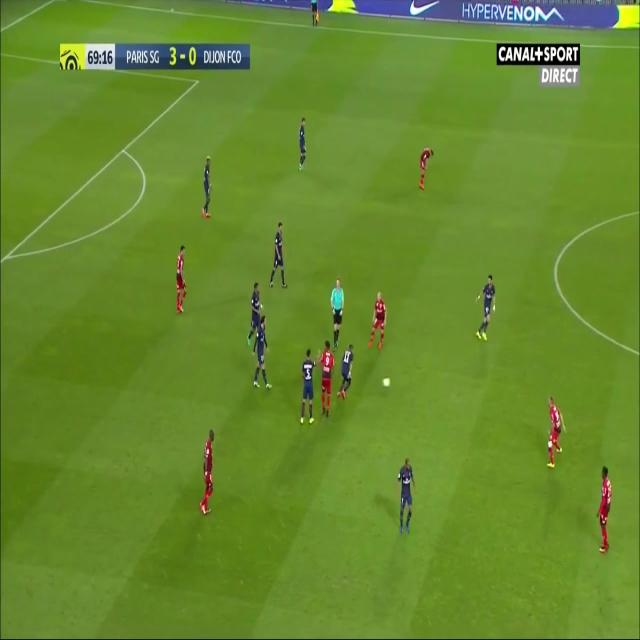Ball: (380, 372, 393, 394)
Player: (197, 427, 218, 520), (595, 462, 615, 558), (473, 273, 500, 344), (542, 394, 566, 473), (396, 454, 418, 538), (252, 314, 274, 395), (316, 339, 336, 422), (267, 220, 288, 294), (297, 348, 316, 428), (366, 287, 388, 354), (242, 279, 263, 346), (335, 341, 356, 408), (172, 243, 188, 321), (198, 152, 214, 220), (295, 112, 310, 174), (417, 145, 436, 193)
Referee: (327, 274, 346, 349), (310, 0, 320, 26)
